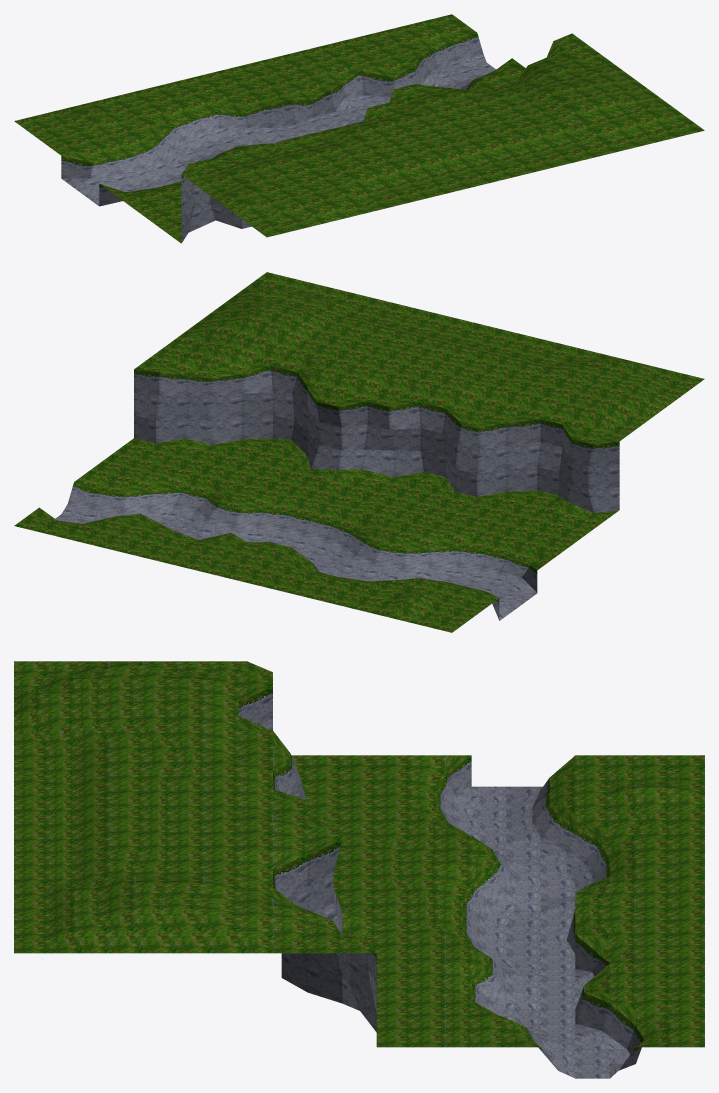
Rendered from godCliff.glb.
3 renders of one model, top to bottom at view 1: azimuth 30°, elevation 25°; view 2: azimuth 150°, elevation 25°; view 3: azimuth 270°, elevation 25°, orthographic. The views are drawn at different scales.
Parts seen in each view (by area): view 1: Grid; view 2: Grid; view 3: Grid.
Part boxes in pixels (x1,y1,x2,y2): Grid: (14, 14, 704, 243); Grid: (14, 272, 704, 632); Grid: (14, 661, 704, 1078).
Size of the model in its own units: 20 by 4.5 by 20.
Materials: 1 (1 with a texture image).
